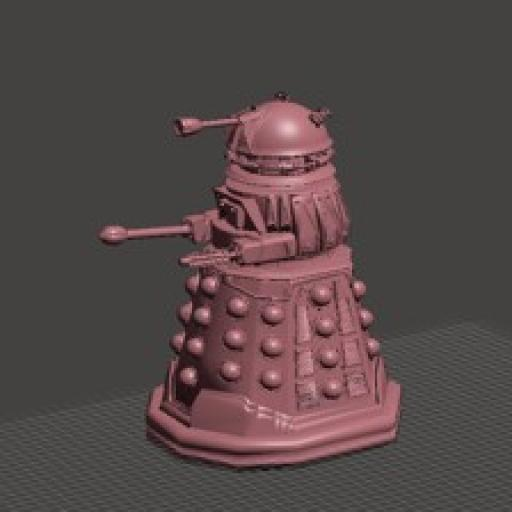dalek: (93, 87, 406, 468)
